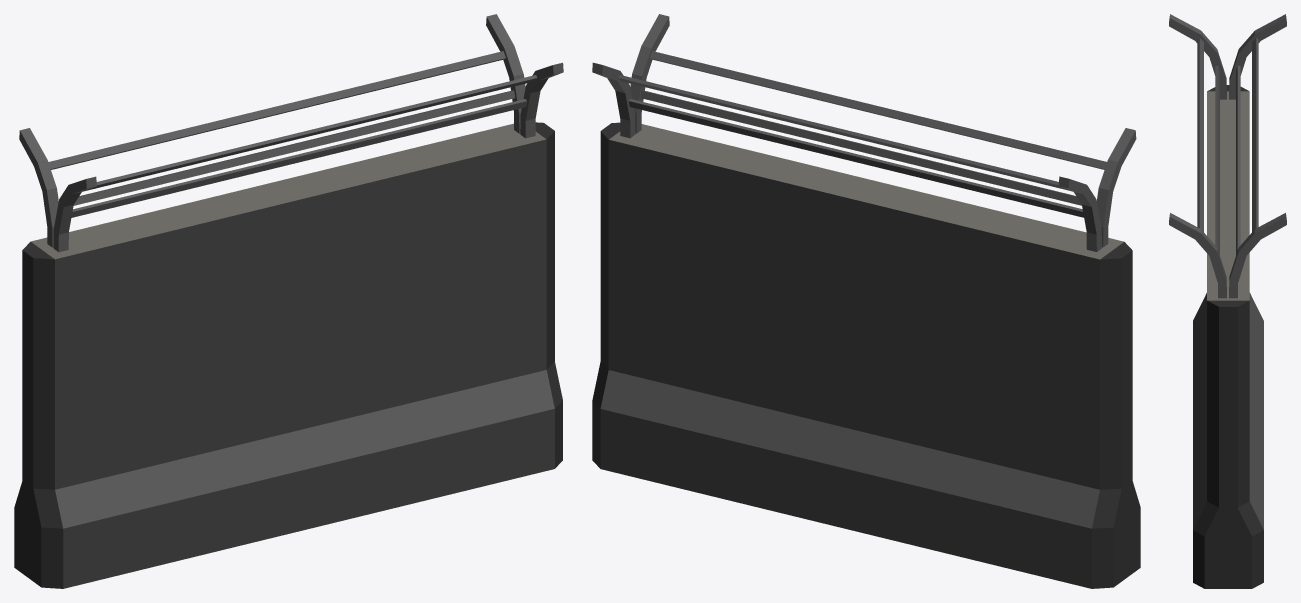
The model's file is Wall_3.FBX.
3 views of the same model, side by side, from view 1: azimuth 30°, elevation 25°; view 2: azimuth 150°, elevation 25°; view 3: azimuth 270°, elevation 25° (orthographic). The views are drawn at different scales.
Visible parts, largest first — view 1: Ground8; view 2: Ground8; view 3: Ground8.
Boxes of the visible parts, x1,y1,x2,y2 form: Ground8: (14, 14, 563, 588); Ground8: (592, 14, 1140, 588); Ground8: (1169, 14, 1286, 588).
Size of the model in its own units: 3.72 by 2.85 by 0.836.
Materials: 1 (1 with a texture image).
